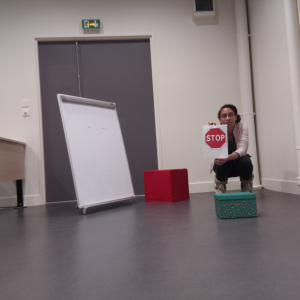big: (56, 93, 137, 214)
medium: (144, 169, 190, 203)
small: (214, 192, 259, 218)
